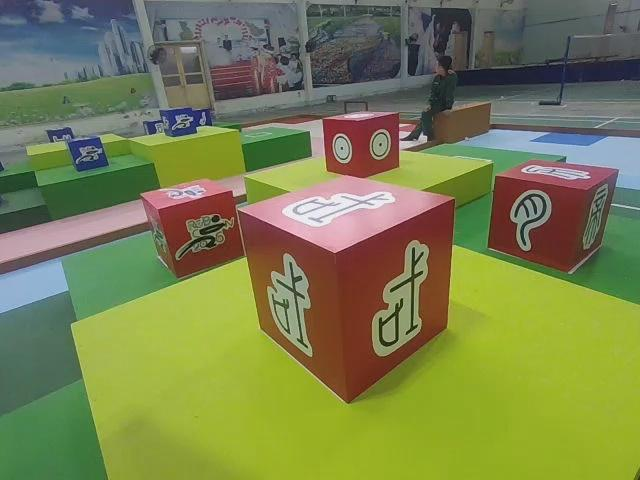R1: (137, 175, 245, 283)
R2 Fake: (486, 156, 621, 274)
R2 Real: (236, 172, 458, 407), (320, 106, 402, 180)
